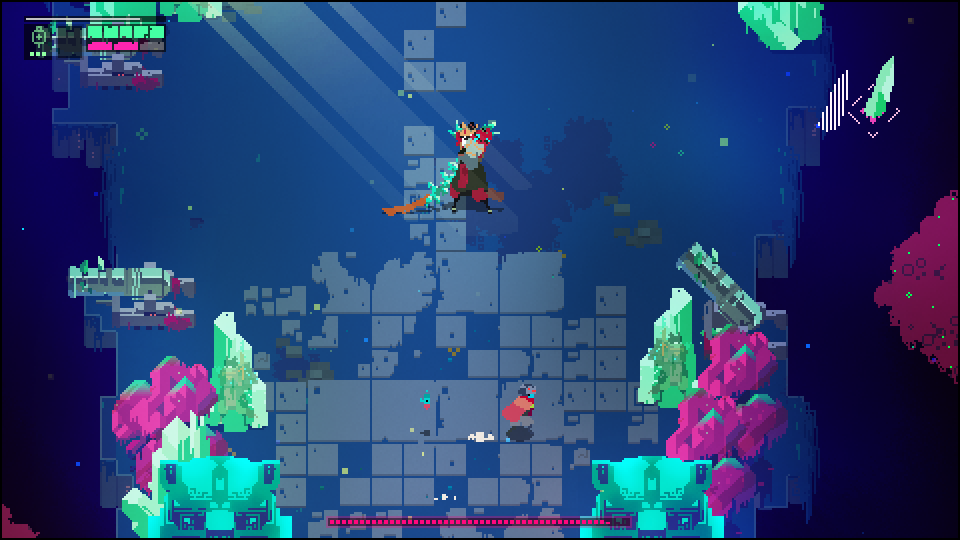hanged_crys: (814, 64, 852, 139), (862, 53, 902, 122)
hanged_man: (414, 112, 508, 222)
player: (501, 381, 542, 439)
